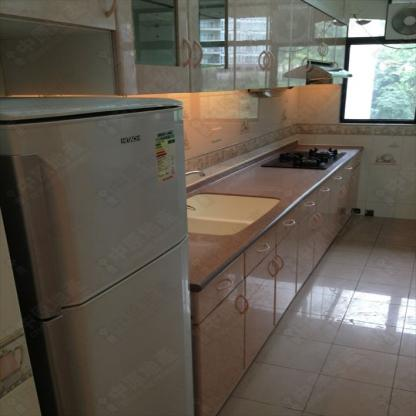Cupboard: (192, 147, 363, 414), (115, 0, 350, 95)
Exhaust Fan: (385, 1, 415, 40)
Exhaust Hood: (307, 62, 352, 81)
Faucet: (184, 168, 209, 178)
Fridge: (1, 94, 192, 415)
Sink: (188, 193, 279, 235)
Stove: (258, 148, 348, 169)
